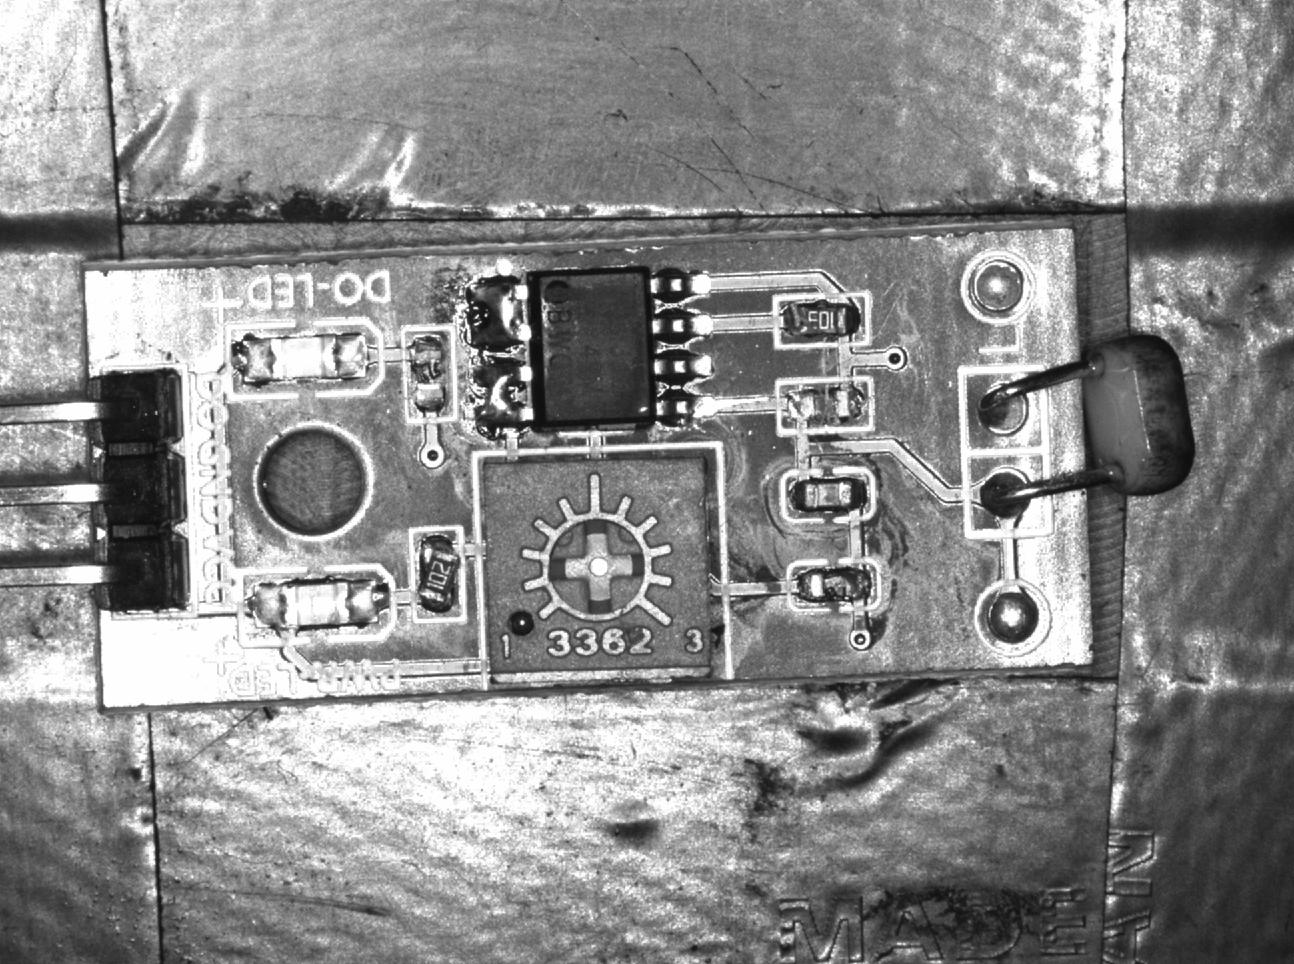bridge: (464, 361, 533, 434), (464, 280, 528, 350)
lifted: (411, 526, 467, 621)
miss: (777, 379, 876, 430), (784, 561, 882, 613), (404, 327, 456, 422)
ok: (775, 296, 872, 347), (782, 469, 877, 521)
